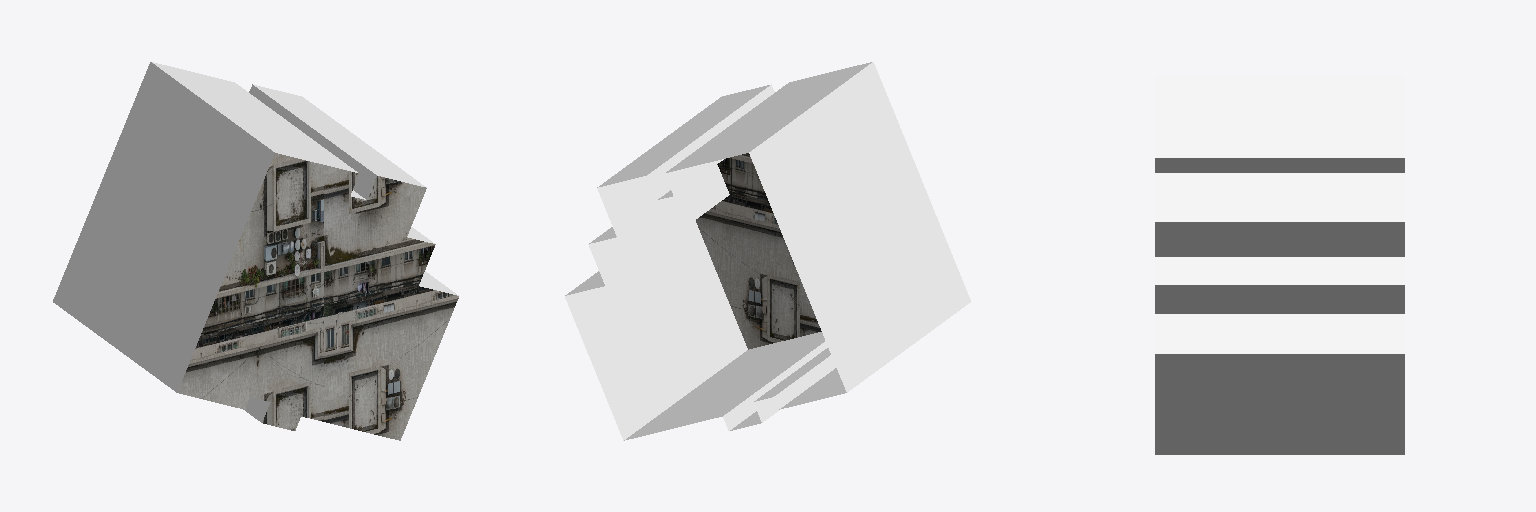
3 renders of one model, left to right at view 1: azimuth 30°, elevation 25°; view 2: azimuth 150°, elevation 25°; view 3: azimuth 270°, elevation 25°, orthographic.
Parts seen in each view (by area): view 1: Building; view 2: Building; view 3: Building.
Part boxes in pixels (left/top/right/bottom): Building: left=53, top=62, right=458, bottom=440; Building: left=565, top=62, right=970, bottom=440; Building: left=1155, top=76, right=1404, bottom=454.
Bounding box in the file's own units: 19.62 × 21.17 × 15.
2 materials, 1 textured.